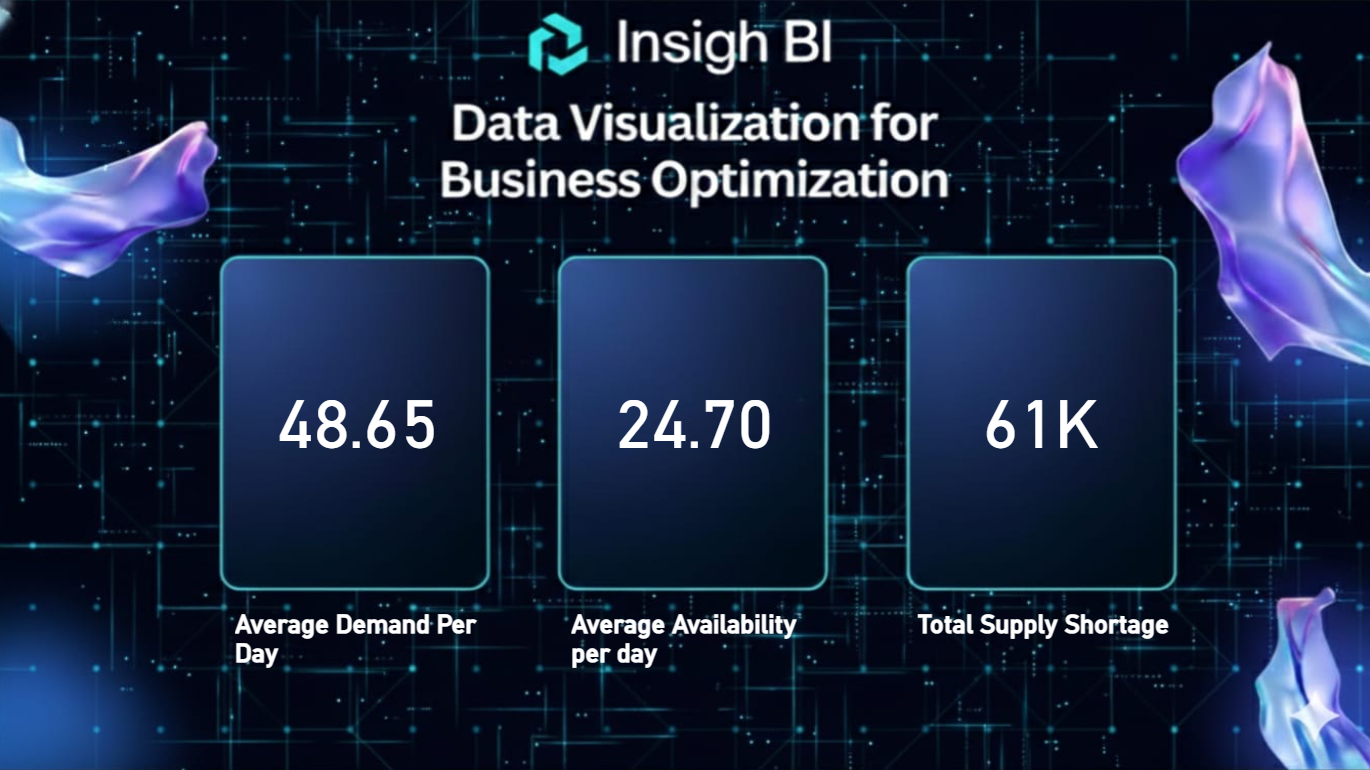

The page's visual inventory and layout, read from the dashboard file:
{"tool":"powerbi","page":{"name":"Page 1","canvas":[1280,720],"ordinal":0},"visuals":[{"type":"textbox","box":[216.9,562.7,239,101.7],"z":1000},{"type":"textbox","box":[530.5,562.7,244.1,101.7],"z":2000},{"type":"textbox","box":[852.5,562.7,262.7,101.7],"z":3000},{"type":"card","fields":{"Values":["measure table.average demand per day"]},"box":[216.9,271.2,239,232.2],"z":4000},{"type":"card","fields":{"Values":["measure table.average Availability per day"]},"box":[530.5,271.2,239,232.2],"z":5000},{"type":"card","fields":{"Values":["measure table.total supply shortage"]},"box":[852.5,271.2,239,232.2],"z":6000}]}

Visuals, with their boxes in screenshot pixels (x1, y1, x2, y2), scaled from the page's 1280x720 canvas onto the 1370x770 screenshot:
textbox: <bbox>232, 602, 488, 711</bbox>
textbox: <bbox>568, 602, 829, 711</bbox>
textbox: <bbox>912, 602, 1194, 711</bbox>
card - measure table.average demand per day: <bbox>232, 290, 488, 538</bbox>
card - measure table.average Availability per day: <bbox>568, 290, 824, 538</bbox>
card - measure table.total supply shortage: <bbox>912, 290, 1168, 538</bbox>
